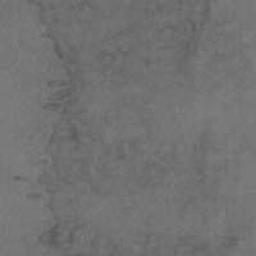Water spot: (26, 0, 215, 256), (12, 174, 28, 183), (26, 191, 41, 200)
